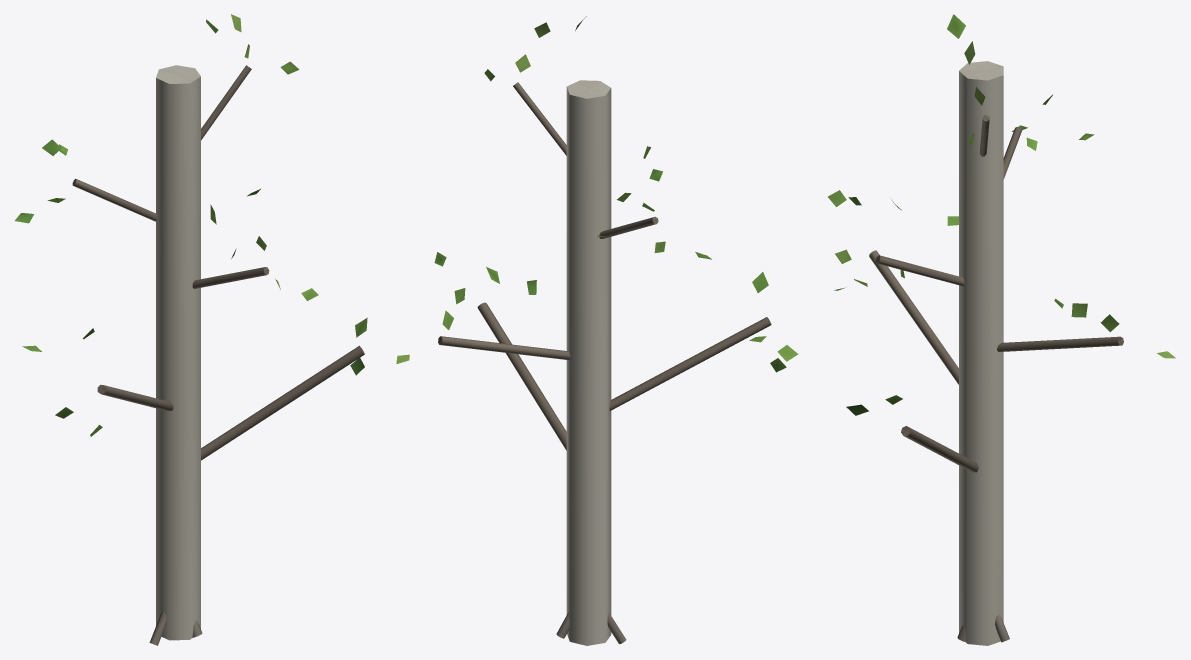
Rendered from small-lod2.glb.
The picture shows the model from 3 angles, left to right: view 1: azimuth 30°, elevation 25°; view 2: azimuth 150°, elevation 25°; view 3: azimuth 270°, elevation 25°; orthographic projection. The views are drawn at different scales.
Visible parts, largest first — view 1: birch-bark-branches-buried-roots-ground-blend, birch-bifurcated-twigs-and-leaves; view 2: birch-bark-branches-buried-roots-ground-blend, birch-bifurcated-twigs-and-leaves; view 3: birch-bark-branches-buried-roots-ground-blend, birch-bifurcated-twigs-and-leaves.
Boxes of the visible parts, x1=… form: birch-bark-branches-buried-roots-ground-blend: x1=72, y1=65, x2=364, y2=645; birch-bifurcated-twigs-and-leaves: x1=15, y1=14, x2=367, y2=436; birch-bark-branches-buried-roots-ground-blend: x1=438, y1=80, x2=771, y2=645; birch-bifurcated-twigs-and-leaves: x1=396, y1=16, x2=798, y2=372; birch-bark-branches-buried-roots-ground-blend: x1=869, y1=61, x2=1123, y2=645; birch-bifurcated-twigs-and-leaves: x1=828, y1=14, x2=1175, y2=415.
Size of the model in its own units: 6.4 by 12.11 by 6.05.
